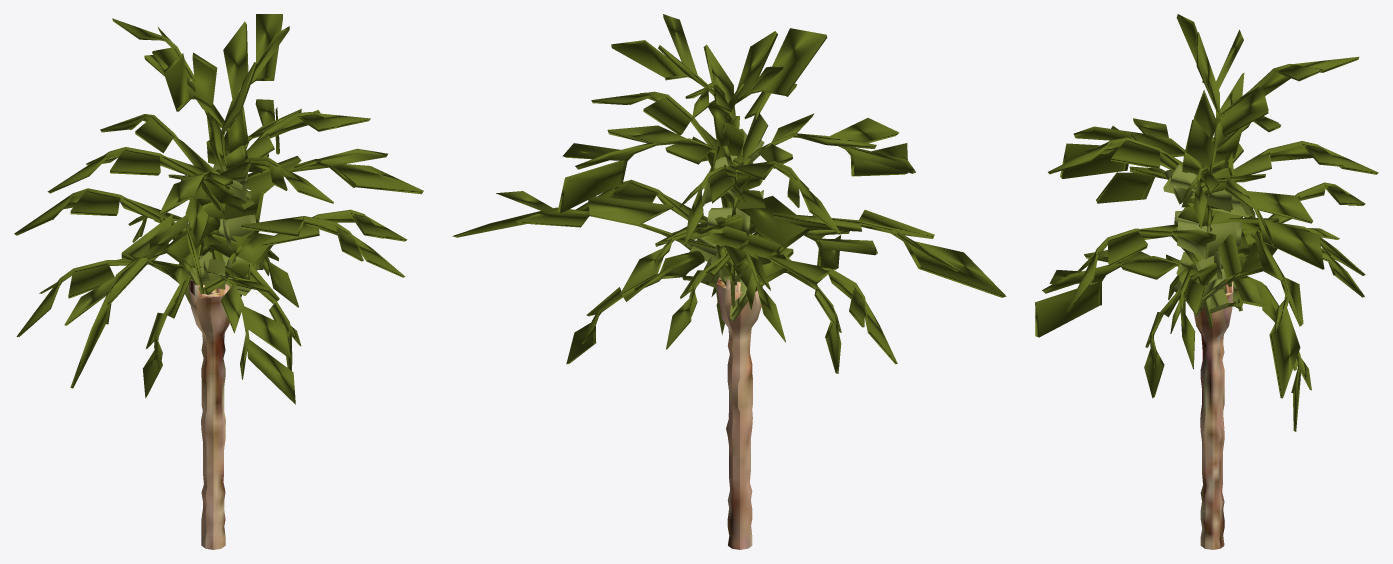
The model's file is palm_tree.obj.
3 renders of one model, left to right at view 1: azimuth 30°, elevation 25°; view 2: azimuth 150°, elevation 25°; view 3: azimuth 270°, elevation 25°, orthographic. The views are drawn at different scales.
Visible parts, largest first — view 1: pCylinder1, pCube13, pCube25, pCube23, pCube10, pCube26, pCube21, pCube9, pCube1, pCube14, pCube12, pCube15 (+9 smaller); view 2: pCube13, pCylinder1, pCube24, pCube1, pCube10, pCube26, pCube25, pCube15, pCube22, pCube18, pCube12, pCube27 (+8 smaller); view 3: pCylinder1, pCube10, pCube23, pCube26, pCube24, pCube25, pCube1, pCube19, pCube9, pCube20, pCube27, pCube18 (+8 smaller).
Part boxes in pixels (x1,y1,x2,y2): pCylinder1: (189, 278, 232, 549); pCube13: (64, 214, 220, 388); pCube25: (207, 14, 289, 171); pCube23: (203, 277, 295, 404); pCube10: (201, 148, 423, 279); pCube26: (144, 52, 248, 199); pCube21: (47, 147, 257, 241); pCube9: (203, 213, 405, 278); pCube1: (149, 171, 251, 293); pCube14: (225, 209, 407, 297); pCube12: (14, 188, 203, 244); pCube15: (16, 256, 201, 336); pCube13: (689, 195, 1006, 297); pCylinder1: (716, 277, 762, 549); pCube24: (557, 125, 741, 212); pCube1: (737, 113, 915, 176); pCube10: (452, 191, 728, 256); pCube26: (722, 28, 827, 164); pCube25: (611, 14, 739, 188); pCube15: (730, 254, 897, 364); pCube22: (591, 91, 765, 238); pCube18: (566, 250, 719, 364); pCube12: (716, 240, 785, 342); pCube27: (685, 81, 744, 206); pCylinder1: (1193, 282, 1233, 549); pCube10: (1202, 230, 1303, 398); pCube23: (1035, 250, 1204, 337); pCube26: (1163, 14, 1244, 198); pCube24: (1192, 174, 1324, 269); pCube25: (1182, 81, 1268, 212); pCube1: (1060, 118, 1194, 204); pCube19: (1048, 137, 1242, 258); pCube9: (1066, 224, 1222, 311); pCube20: (1174, 141, 1378, 258); pCube27: (1204, 56, 1359, 217); pCube18: (1196, 273, 1311, 431).
Size of the model in its own units: 28.07 by 30.43 by 18.81.
